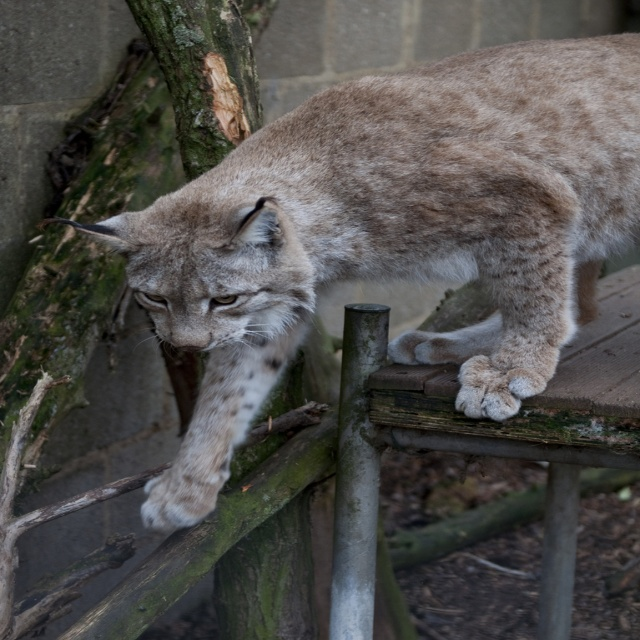Lynx: (36, 32, 639, 538)
